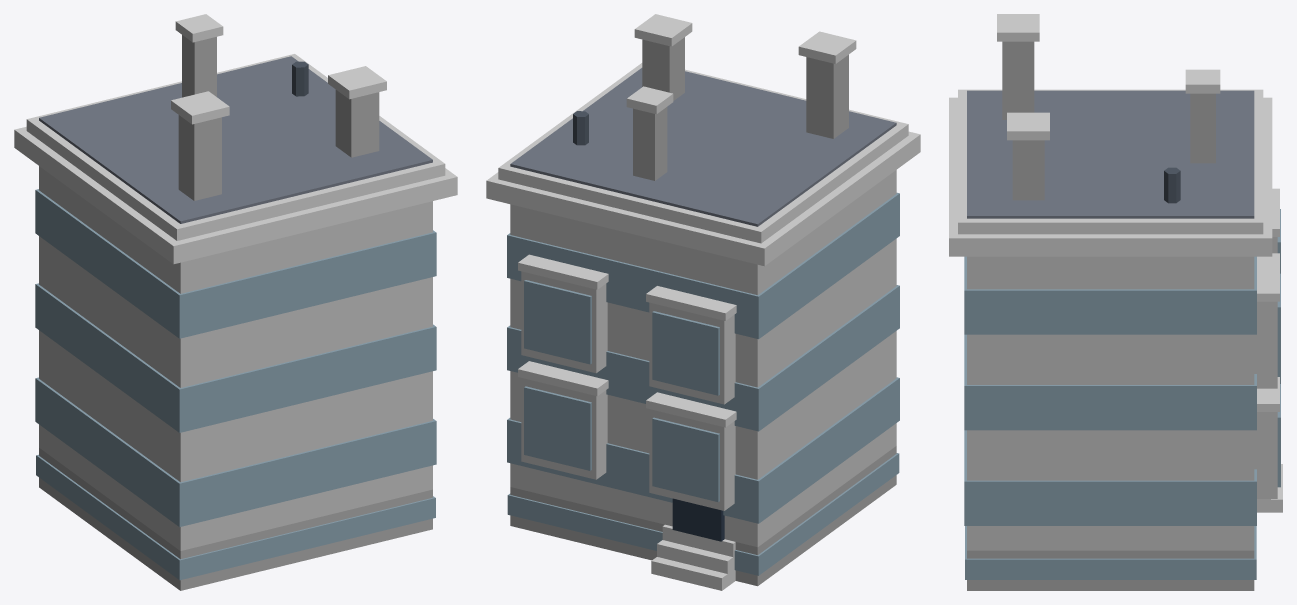
File: building_small_brownstone.glb
3 views of the same model, side by side, from view 1: azimuth 30°, elevation 25°; view 2: azimuth 150°, elevation 25°; view 3: azimuth 270°, elevation 25° (orthographic). The views are drawn at different scales.
Parts seen in each view (by area): view 1: building_small_brownstone; view 2: building_small_brownstone; view 3: building_small_brownstone.
Part boxes in pixels (box(x1,y1,x2,y2)): building_small_brownstone: box(14, 14, 457, 590); building_small_brownstone: box(486, 14, 920, 590); building_small_brownstone: box(949, 14, 1282, 590).
Size of the model in its own units: 7.14 by 11 by 7.16.
